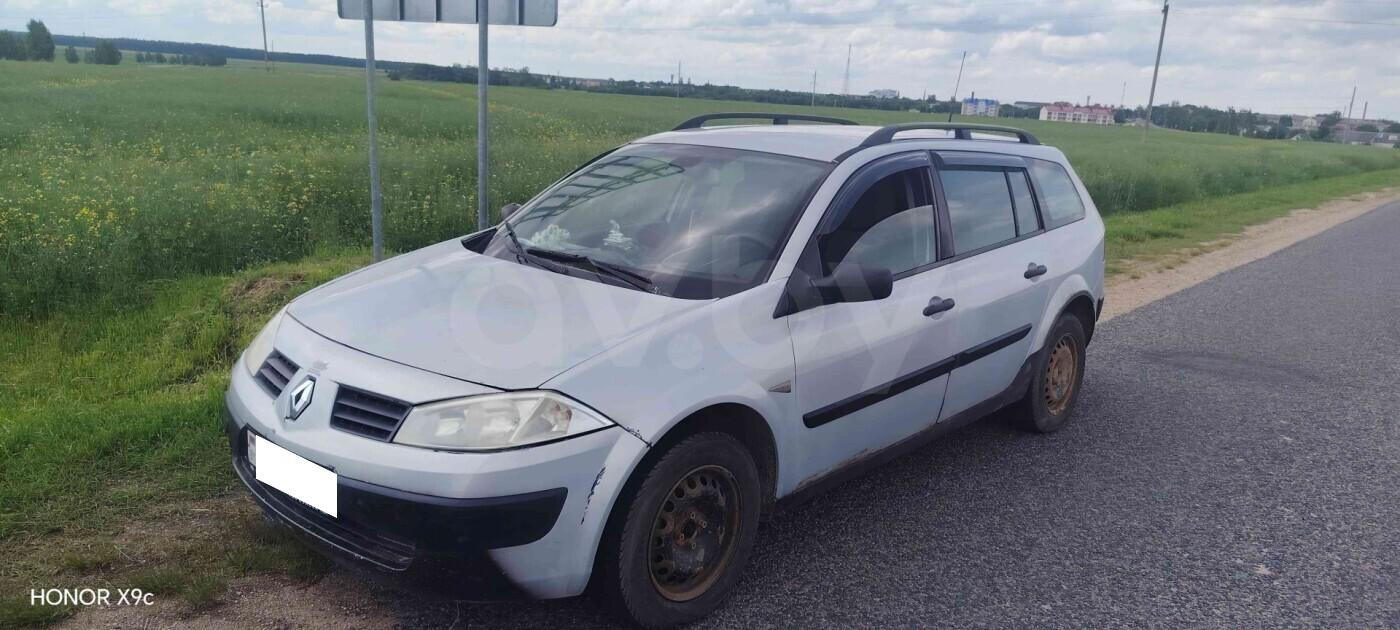Megane_2002-2006: (222, 119, 1112, 622)
